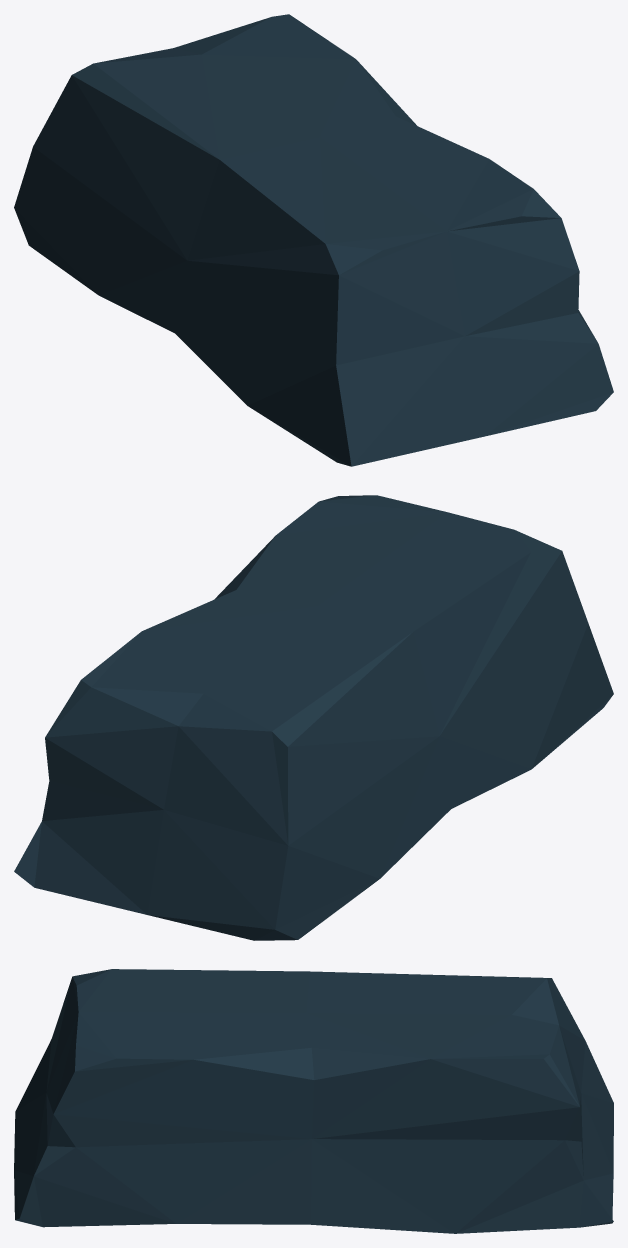
File: SFFA_Gold_Bar.fbx
3 renders of one model, top to bottom at view 1: azimuth 30°, elevation 25°; view 2: azimuth 150°, elevation 25°; view 3: azimuth 270°, elevation 25°, orthographic. The views are drawn at different scales.
Visible parts, largest first — view 1: SFFA_Gold_Bar; view 2: SFFA_Gold_Bar; view 3: SFFA_Gold_Bar.
Part boxes in pixels (x1,y1,x2,y2): SFFA_Gold_Bar: [14, 14, 613, 466]; SFFA_Gold_Bar: [14, 495, 613, 940]; SFFA_Gold_Bar: [14, 969, 613, 1233].
Size of the model in its own units: 10.67 by 6.82 by 22.15.
